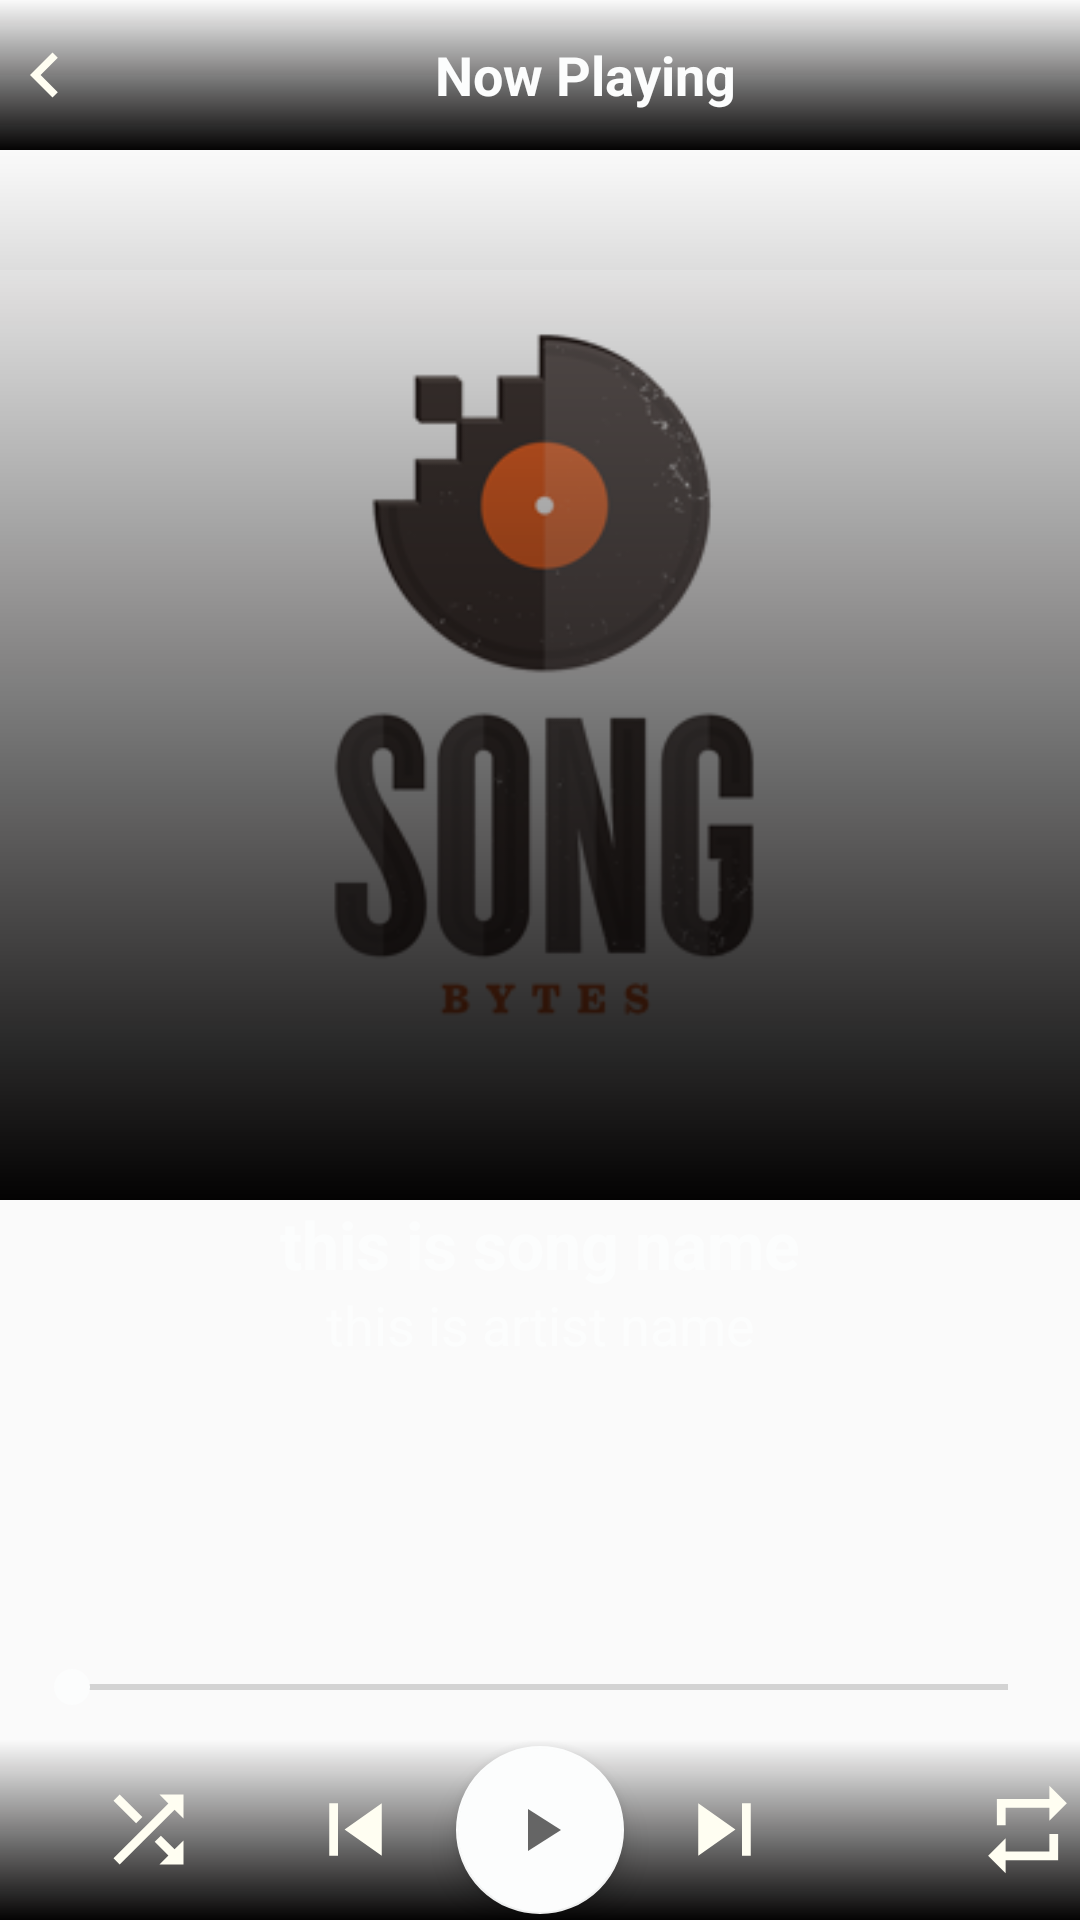

Icon click points for this 1080w x 1920h phone screenshot, format (x=x, y=y):
chevron left: (x=45, y=75)
play arrow: (x=540, y=1830)
repeat: (x=1027, y=1829)
shuffle: (x=148, y=1829)
skip next: (x=724, y=1829)
skip previous: (x=355, y=1829)
